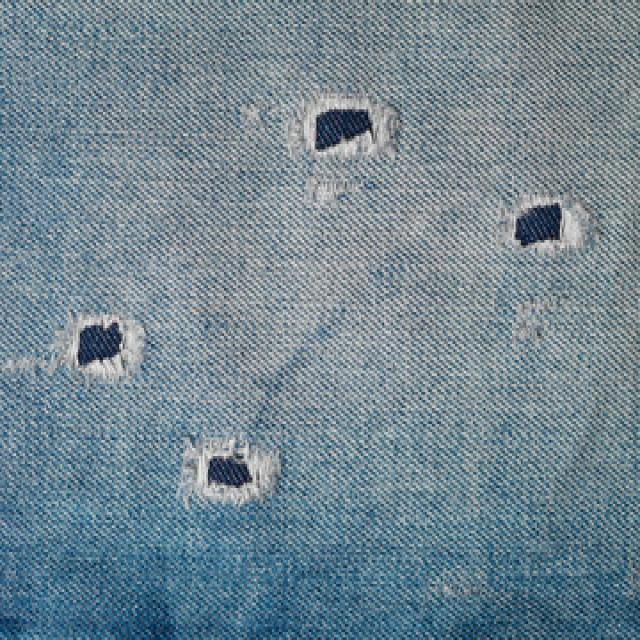Hole: (67, 315, 143, 380), (315, 109, 372, 150), (516, 203, 563, 246), (208, 458, 253, 488)
